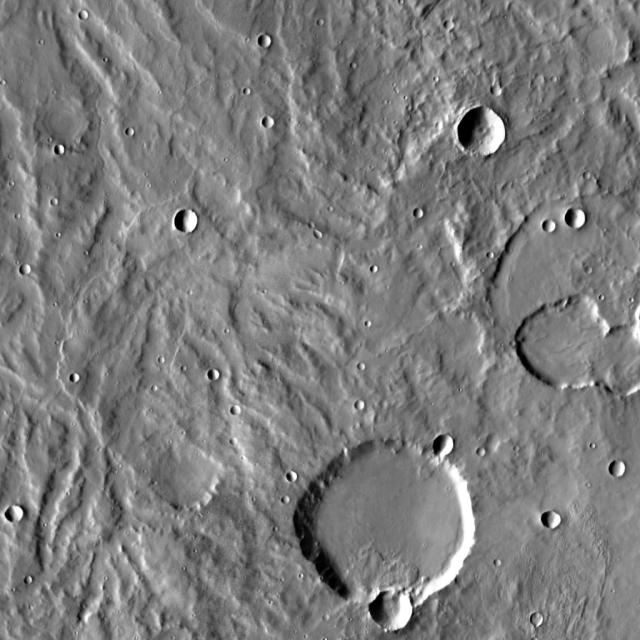crater: (308, 439, 480, 611), (498, 196, 640, 386), (526, 296, 620, 391), (156, 443, 228, 513), (595, 324, 640, 395), (42, 96, 91, 145), (464, 109, 512, 156), (378, 588, 420, 631), (592, 25, 621, 55), (179, 210, 204, 235), (439, 434, 462, 456), (572, 208, 593, 229), (548, 510, 568, 529), (11, 504, 29, 522), (616, 459, 632, 476), (263, 33, 279, 49), (536, 612, 550, 626), (549, 220, 563, 234), (292, 469, 304, 482), (268, 115, 281, 127), (25, 262, 37, 274), (498, 85, 509, 96), (212, 370, 224, 380), (238, 402, 248, 413), (420, 209, 430, 220), (362, 398, 372, 408), (320, 228, 330, 238), (61, 144, 70, 154), (86, 8, 95, 18), (56, 197, 66, 206), (77, 373, 86, 382), (132, 128, 140, 136), (288, 494, 296, 502), (484, 447, 492, 455), (248, 88, 256, 96), (364, 363, 372, 371), (452, 20, 459, 28), (584, 259, 592, 266), (582, 166, 590, 173), (31, 576, 38, 584), (442, 122, 449, 130), (230, 429, 237, 436), (488, 244, 494, 252), (316, 10, 322, 18), (372, 256, 378, 263), (364, 314, 371, 320), (495, 553, 501, 559), (349, 54, 355, 60)
